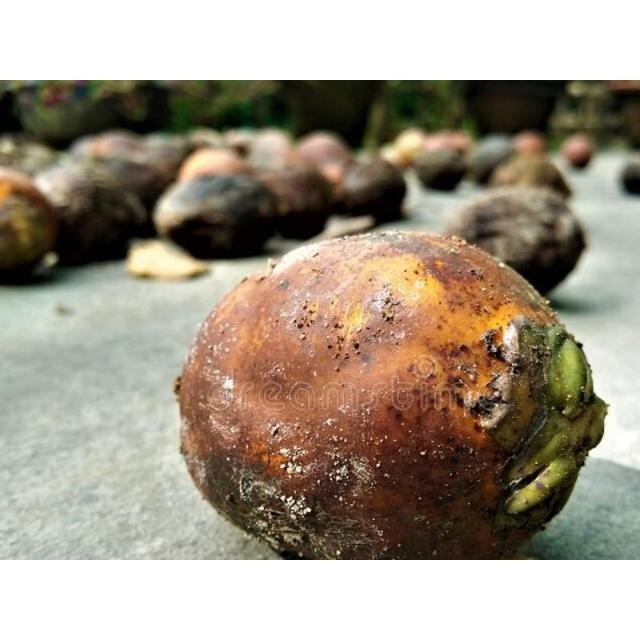damaged: (174, 232, 609, 559)
